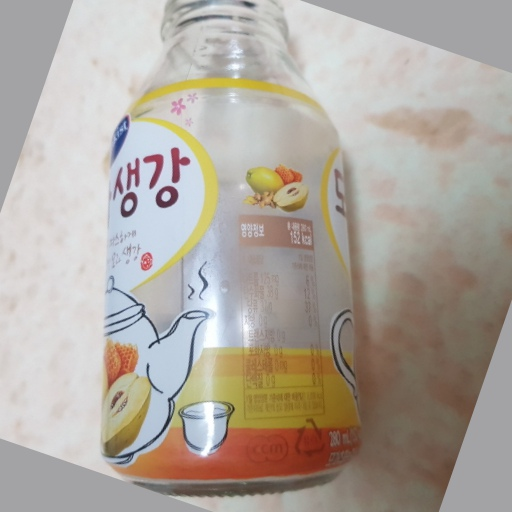Glass_4: (100, 1, 367, 493)
